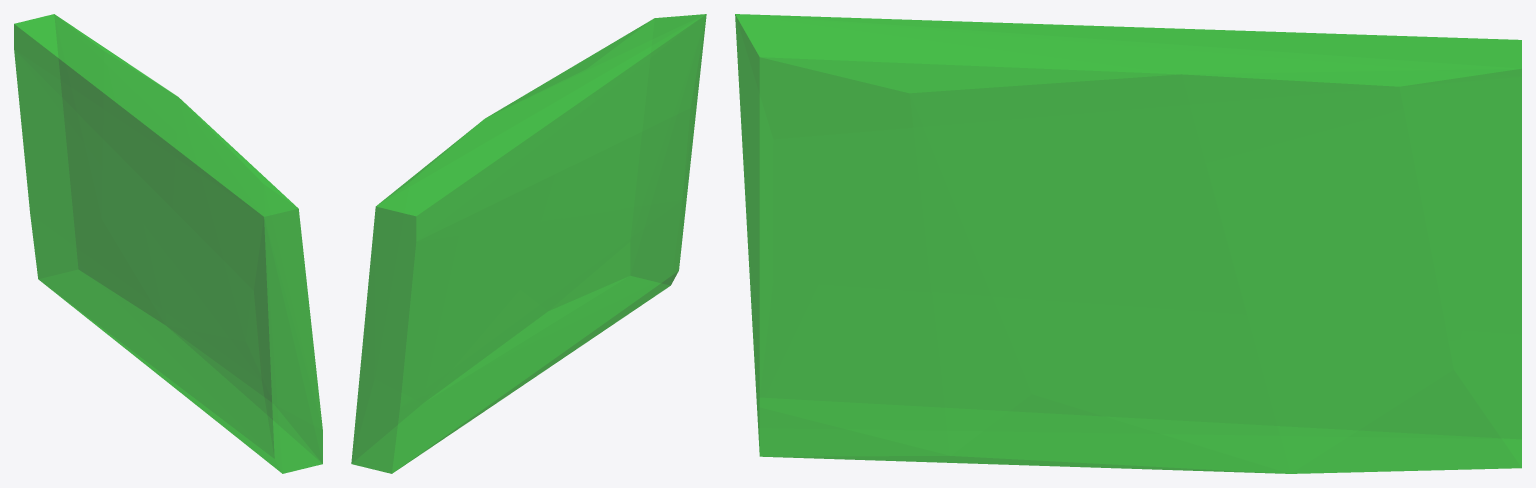
3 renders of one model, left to right at view 1: azimuth 30°, elevation 25°; view 2: azimuth 150°, elevation 25°; view 3: azimuth 270°, elevation 25°, orthographic. The views are drawn at different scales.
Parts seen in each view (by area): view 1: Shape_IndexedFaceSet.034_Shape_IndexedFaceSet.15647; view 2: Shape_IndexedFaceSet.034_Shape_IndexedFaceSet.15647; view 3: Shape_IndexedFaceSet.034_Shape_IndexedFaceSet.15647.
Part boxes in pixels (<box>): Shape_IndexedFaceSet.034_Shape_IndexedFaceSet.15647: <box>14,14,322,473</box>; Shape_IndexedFaceSet.034_Shape_IndexedFaceSet.15647: <box>351,14,706,473</box>; Shape_IndexedFaceSet.034_Shape_IndexedFaceSet.15647: <box>735,14,1521,473</box>.
Bounding box in the file's own units: 0.1027 × 0.2894 × 0.523.
